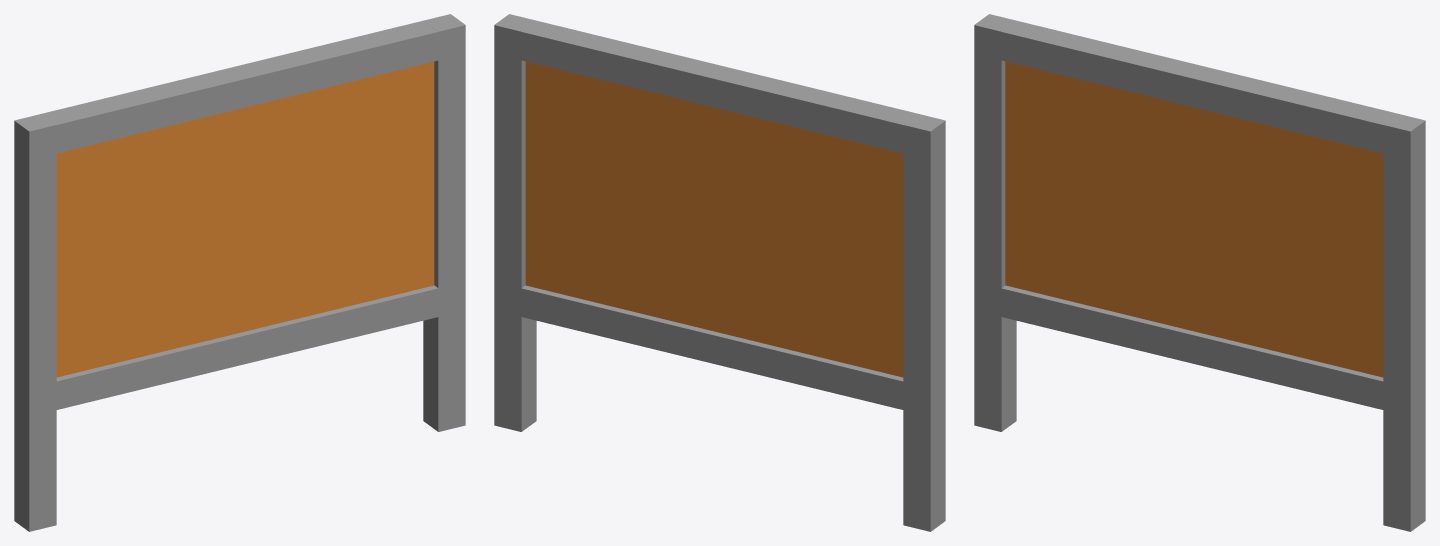
Rendered from board.fbx.
3 views of the same model, side by side, from view 1: azimuth 30°, elevation 25°; view 2: azimuth 150°, elevation 25°; view 3: azimuth 330°, elevation 25° (orthographic).
Parts seen in each view (by area): view 1: Cube.003, Cube.001, Cube.004, Cube.002, Cube.005; view 2: Cube.003, Cube.001, Cube.004, Cube.002, Cube.005; view 3: Cube.003, Cube.002, Cube.004, Cube.001, Cube.005.
Part boxes in pixels (box(x1,y1,x2,y2)): Cube.003: box(56, 61, 434, 377); Cube.001: box(14, 114, 56, 531); Cube.004: box(41, 21, 438, 153); Cube.002: box(423, 14, 465, 431); Cube.005: box(56, 285, 438, 410); Cube.003: box(525, 61, 903, 377); Cube.001: box(903, 114, 945, 531); Cube.004: box(521, 21, 918, 153); Cube.002: box(494, 14, 536, 431); Cube.005: box(521, 285, 903, 410); Cube.003: box(1005, 61, 1383, 377); Cube.002: box(1383, 114, 1425, 531); Cube.004: box(1000, 21, 1398, 153); Cube.001: box(974, 14, 1016, 431); Cube.005: box(1000, 285, 1383, 409).
Size of the model in its own units: 2301 by 2017 by 140.
